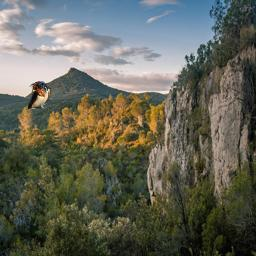Swallow: (28, 81, 51, 109)
